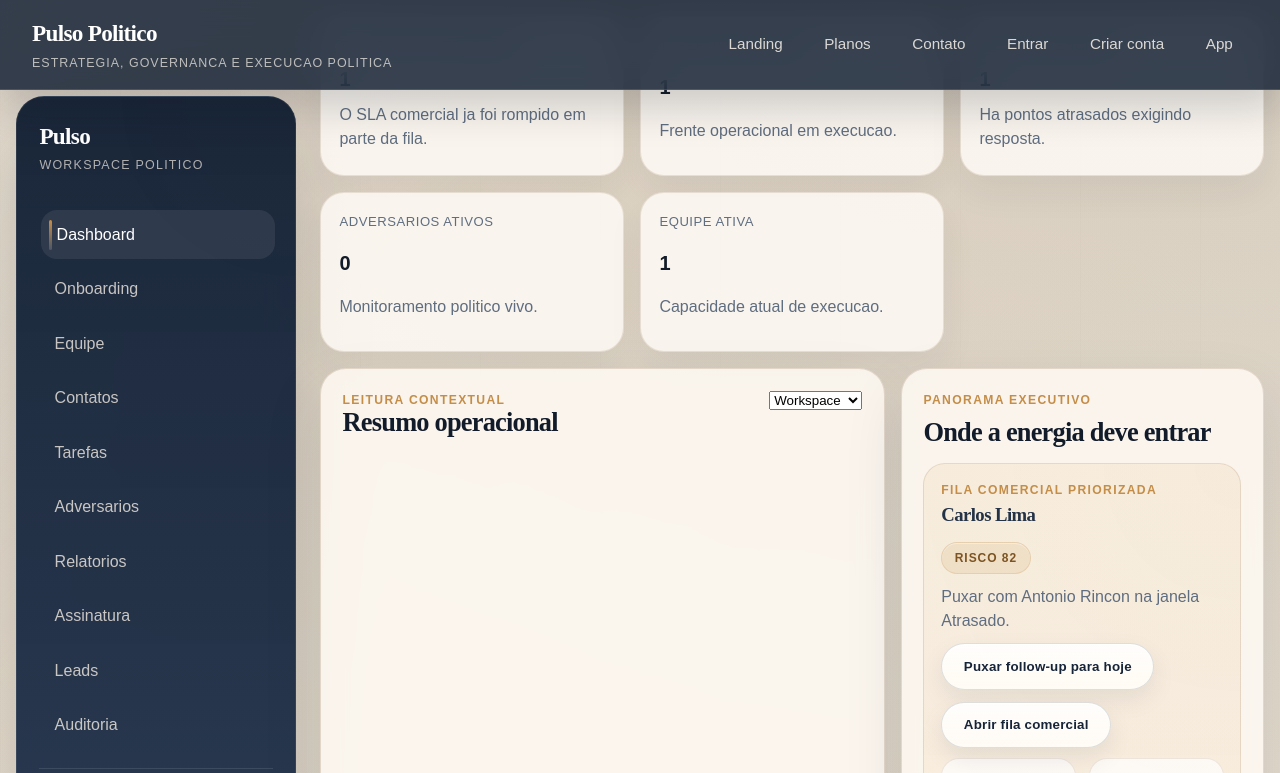
App authenticated flows › atualiza a leitura do dashboard ao trocar o modulo de IA
(page scrolled)
expect the text "Fila comercial priorizada" is shown: met, box [941,481,1157,499]
expect the heading "Carlos Lima" is shown: met, box [941,504,1035,525]
Select "Assinatura" in the dropdown showing "Workspace" at x=816, y=400, box [769,391,862,410]
(page scrolled)
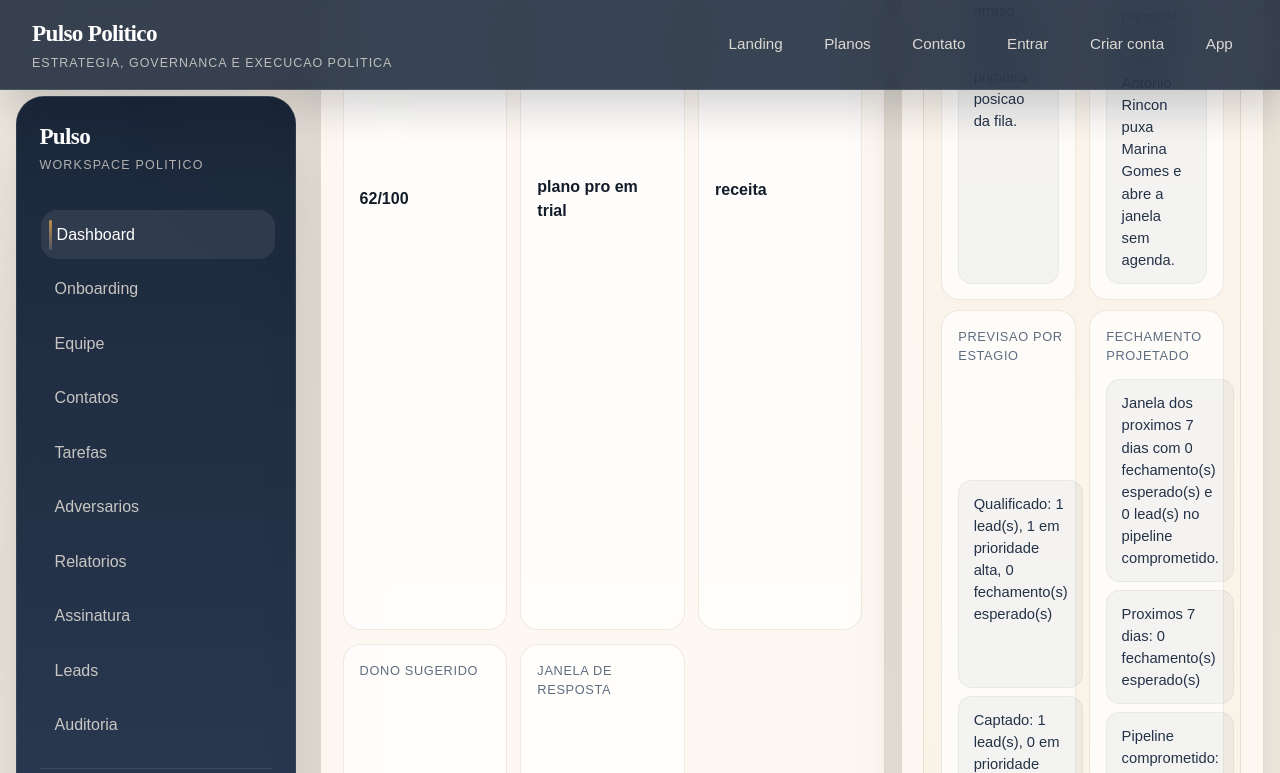
expect the text "62/100" is shown: met, box [360,190,408,207]
